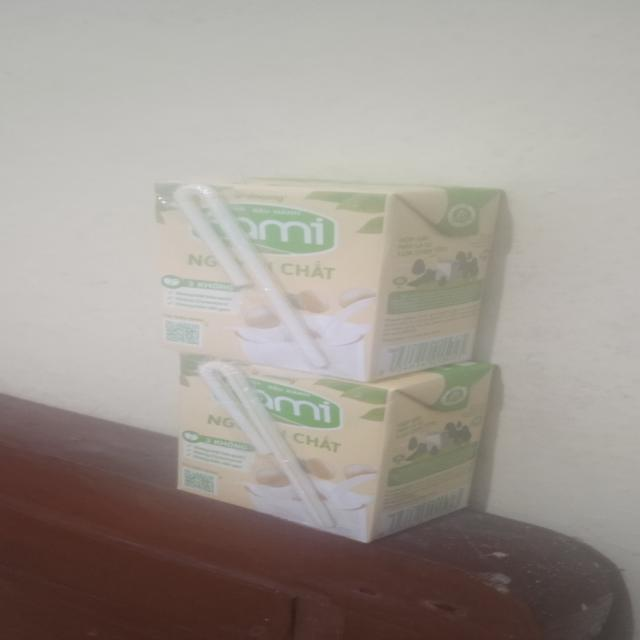Fami: (156, 177, 501, 384), (179, 354, 494, 545)
